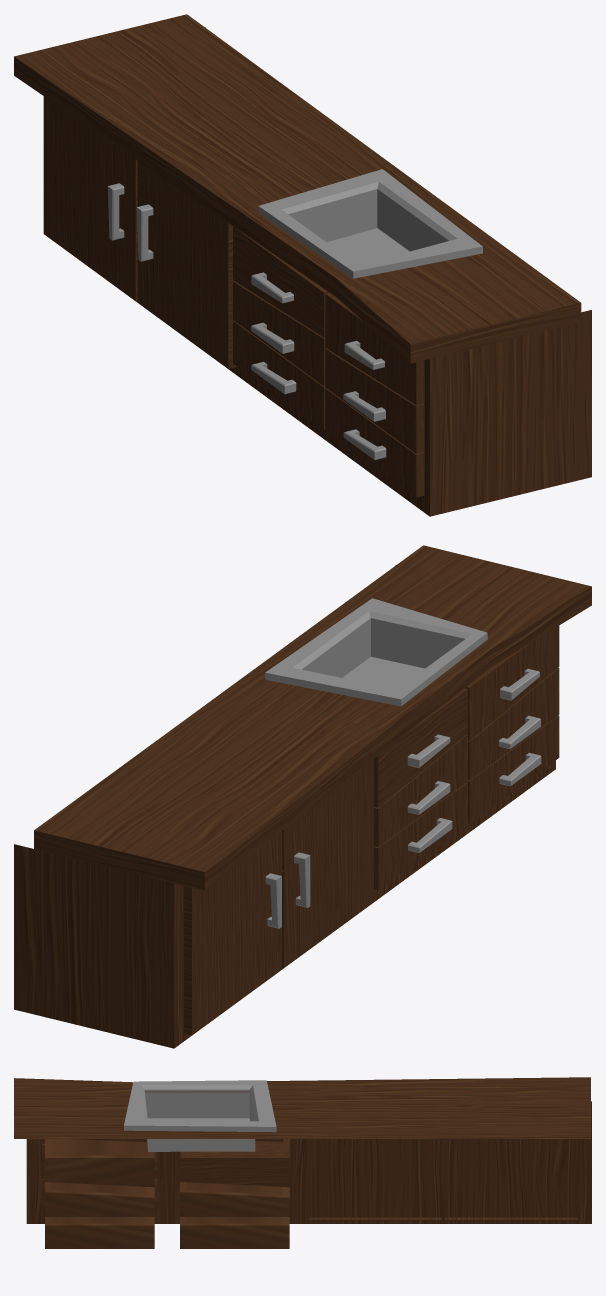
Rendered from KitchenCounter_Drawers.fbx.
3 renders of one model, top to bottom at view 1: azimuth 30°, elevation 25°; view 2: azimuth 150°, elevation 25°; view 3: azimuth 270°, elevation 25°, orthographic. The views are drawn at different scales.
Parts seen in each view (by area): view 1: Midnight_Antics_Kitchen_V1, Midnight_Antics_Kitchen_V1.013, Midnight_Antics_Kitchen_V1.014, Midnight_Antics_Kitchen_V1.010, Midnight_Antics_Kitchen_V1.009, Midnight_Antics_Kitchen_V1.011, Midnight_Antics_Kitchen_V1.012, Midnight_Antics_Kitchen_V1.008, Midnight_Antics_Kitchen_V1.007; view 2: Midnight_Antics_Kitchen_V1, Midnight_Antics_Kitchen_V1.014, Midnight_Antics_Kitchen_V1.013, Midnight_Antics_Kitchen_V1.009, Midnight_Antics_Kitchen_V1.010, Midnight_Antics_Kitchen_V1.008, Midnight_Antics_Kitchen_V1.007, Midnight_Antics_Kitchen_V1.011, Midnight_Antics_Kitchen_V1.012; view 3: Midnight_Antics_Kitchen_V1, Midnight_Antics_Kitchen_V1.010, Midnight_Antics_Kitchen_V1.009, Midnight_Antics_Kitchen_V1.011, Midnight_Antics_Kitchen_V1.012, Midnight_Antics_Kitchen_V1.008, Midnight_Antics_Kitchen_V1.007, Midnight_Antics_Kitchen_V1.013, Midnight_Antics_Kitchen_V1.014.
Boxes of the visible parts, bbox=[...] form: Midnight_Antics_Kitchen_V1: bbox=[14, 14, 591, 516]; Midnight_Antics_Kitchen_V1.013: bbox=[136, 161, 236, 368]; Midnight_Antics_Kitchen_V1.014: bbox=[45, 97, 137, 300]; Midnight_Antics_Kitchen_V1.010: bbox=[325, 293, 424, 405]; Midnight_Antics_Kitchen_V1.009: bbox=[233, 226, 329, 337]; Midnight_Antics_Kitchen_V1.011: bbox=[325, 348, 424, 453]; Midnight_Antics_Kitchen_V1.012: bbox=[325, 388, 424, 497]; Midnight_Antics_Kitchen_V1.008: bbox=[233, 281, 326, 386]; Midnight_Antics_Kitchen_V1.007: bbox=[233, 320, 325, 429]; Midnight_Antics_Kitchen_V1: bbox=[14, 545, 591, 1048]; Midnight_Antics_Kitchen_V1.014: bbox=[183, 831, 281, 1035]; Midnight_Antics_Kitchen_V1.013: bbox=[282, 759, 373, 968]; Midnight_Antics_Kitchen_V1.009: bbox=[373, 688, 467, 807]; Midnight_Antics_Kitchen_V1.010: bbox=[465, 626, 559, 740]; Midnight_Antics_Kitchen_V1.008: bbox=[373, 734, 467, 846]; Midnight_Antics_Kitchen_V1.007: bbox=[373, 782, 467, 890]; Midnight_Antics_Kitchen_V1.011: bbox=[468, 667, 559, 780]; Midnight_Antics_Kitchen_V1.012: bbox=[467, 715, 559, 823]; Midnight_Antics_Kitchen_V1: bbox=[14, 1077, 591, 1223]; Midnight_Antics_Kitchen_V1.010: bbox=[41, 1139, 154, 1187]; Midnight_Antics_Kitchen_V1.009: bbox=[180, 1139, 290, 1187]; Midnight_Antics_Kitchen_V1.011: bbox=[41, 1144, 157, 1216]; Midnight_Antics_Kitchen_V1.012: bbox=[41, 1179, 157, 1248]; Midnight_Antics_Kitchen_V1.008: bbox=[180, 1149, 290, 1216]; Midnight_Antics_Kitchen_V1.007: bbox=[180, 1179, 290, 1248]; Midnight_Antics_Kitchen_V1.013: bbox=[309, 1217, 441, 1219]; Midnight_Antics_Kitchen_V1.014: bbox=[445, 1217, 577, 1219].
Bounding box in the file's own units: 12231 × 11694 × 43455.
